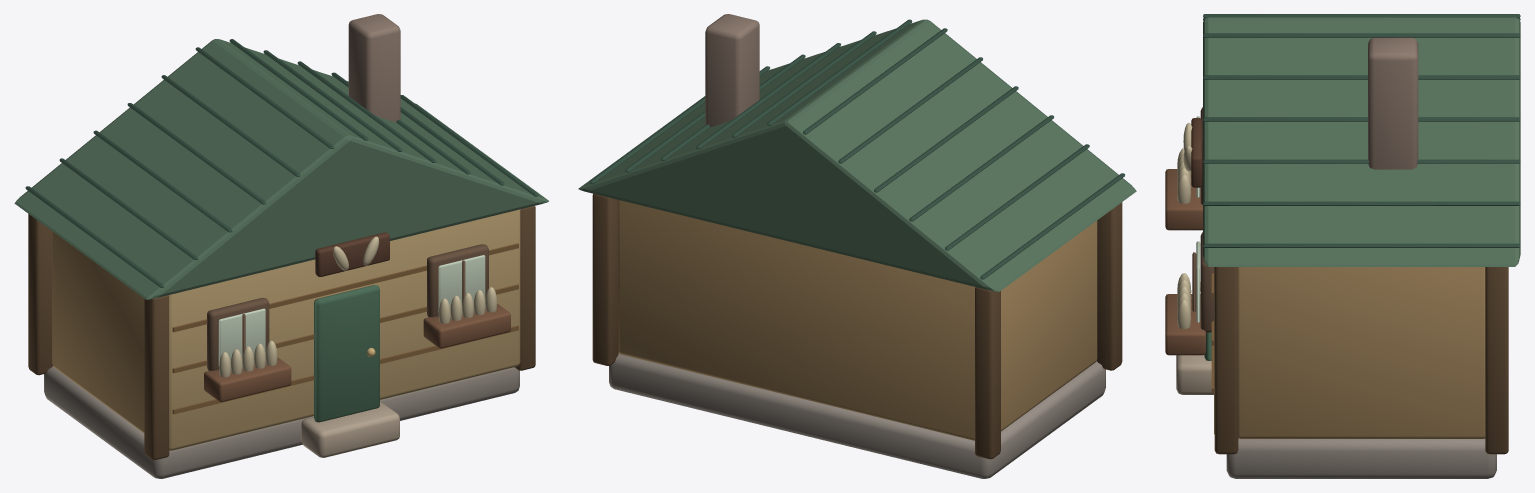
The model's file is res_rook1.glb.
The picture shows the model from 3 angles, left to right: view 1: azimuth 30°, elevation 25°; view 2: azimuth 150°, elevation 25°; view 3: azimuth 270°, elevation 25°; orthographic projection. The views are drawn at different scales.
Visible parts, largest first — view 1: roof, walls, stone, frame, fang; view 2: roof, walls, stone, frame; view 3: roof, walls, stone, frame, fang.
Boxes of the visible parts, x1,y1,x2,y2 form: roof: (14, 39, 548, 299); walls: (52, 209, 520, 450); stone: (44, 14, 519, 478); frame: (28, 206, 535, 459); fang: (204, 232, 510, 401); roof: (578, 19, 1136, 291); walls: (618, 200, 1097, 440); stone: (609, 14, 1105, 478); frame: (592, 194, 1122, 459); roof: (1203, 14, 1520, 266); walls: (1192, 107, 1485, 438); stone: (1176, 37, 1496, 478); frame: (1214, 267, 1508, 454); fang: (1165, 118, 1205, 355).
Size of the model in its own units: 3.47 by 2.78 by 2.27.
